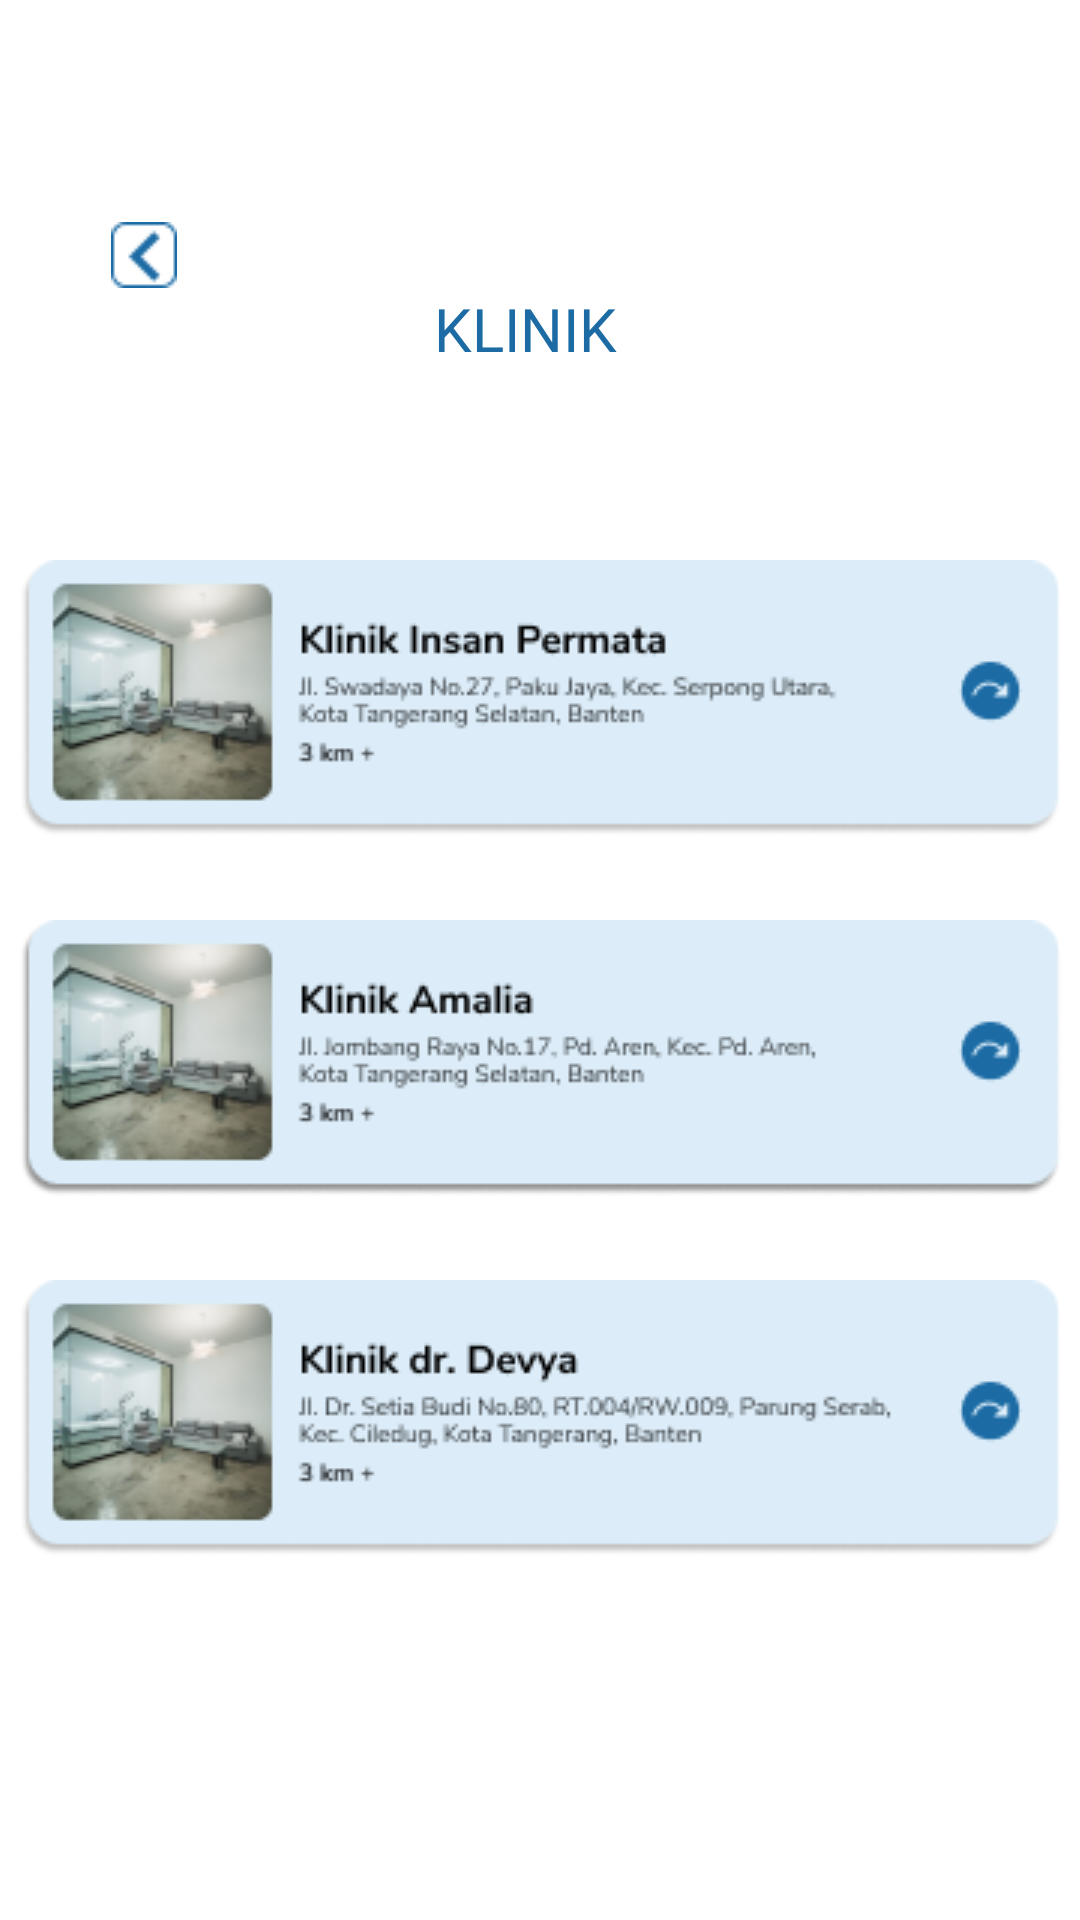

Icons on this 1080px×1920px Android screen, each with the point to tap as point (x, y):
back: point (144, 255)
